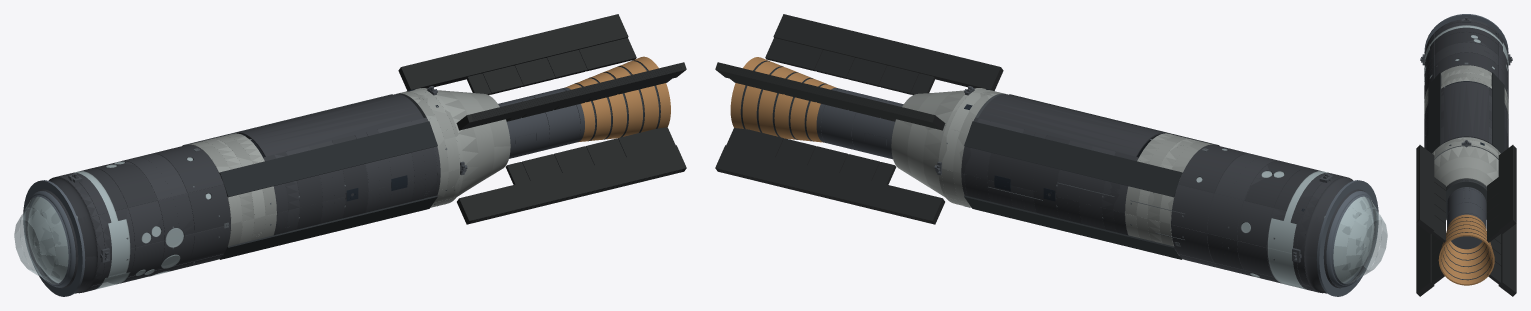
Rendered from wayfarer_exterior_detail_88ce19fc_stowed_stowed.glb.
The picture shows the model from 3 angles, left to right: view 1: azimuth 30°, elevation 25°; view 2: azimuth 150°, elevation 25°; view 3: azimuth 270°, elevation 25°; orthographic projection. The views are drawn at different scales.
Visible parts, largest first — view 1: dry:armor, dry:skin_midship, dry:hotfin_220:folded_envelope, dry:hotfin_40:folded_envelope, dry:strake_140:stowed_stack, dry:nozzle, dry:skin_service, dry:door_port, dry:hotfin_root_40:root, dry:thrust_cone, dry:hotfin_root_220:root, dry:hotfin_140:folded_envelope (+12 smaller); view 2: dry:armor, dry:skin_midship, dry:hotfin_320:folded_envelope, dry:hotfin_140:folded_envelope, dry:strake_40:stowed_stack, dry:nozzle, dry:skin_service, dry:hotfin_root_140:root, dry:door_starboard, dry:thrust_cone, dry:hotfin_root_320:root, dry:reactor (+14 smaller); view 3: dry:armor, dry:nozzle, dry:thrust_cone, dry:hotfin_40:folded_envelope, dry:hotfin_140:folded_envelope, dry:reactor, dry:door_port, dry:door_starboard, dry:hotfin_220:folded_envelope, dry:hotfin_320:folded_envelope, dry:skin_service, dry:strake_40:stowed_stack (+12 smaller).
Part boxes in pixels (x1,y1,x2,y2): dry:armor: (25, 144, 230, 292); dry:skin_midship: (263, 117, 440, 235); dry:hotfin_220:folded_envelope: (457, 145, 686, 224); dry:hotfin_40:folded_envelope: (398, 14, 628, 90); dry:strake_140:stowed_stack: (219, 121, 437, 197); dry:nozzle: (565, 56, 670, 142); dry:skin_service: (187, 133, 276, 259); dry:door_port: (250, 98, 423, 156); dry:hotfin_root_40:root: (466, 38, 636, 94); dry:thrust_cone: (437, 90, 510, 196); dry:hotfin_root_220:root: (505, 127, 675, 184); dry:hotfin_140:folded_envelope: (456, 62, 686, 130); dry:armor: (1171, 144, 1376, 292); dry:skin_midship: (961, 117, 1138, 235); dry:hotfin_320:folded_envelope: (715, 145, 944, 224); dry:hotfin_140:folded_envelope: (773, 14, 1003, 90); dry:strake_40:stowed_stack: (964, 121, 1182, 197); dry:nozzle: (730, 57, 836, 142); dry:skin_service: (1125, 133, 1214, 259); dry:hotfin_root_140:root: (765, 38, 935, 94); dry:door_starboard: (978, 98, 1151, 156); dry:thrust_cone: (891, 90, 964, 197); dry:hotfin_root_320:root: (726, 128, 896, 184); dry:reactor: (816, 88, 903, 159); dry:armor: (1424, 19, 1508, 102); dry:nozzle: (1438, 214, 1494, 285); dry:thrust_cone: (1434, 146, 1498, 220); dry:hotfin_40:folded_envelope: (1498, 145, 1516, 234); dry:hotfin_140:folded_envelope: (1416, 145, 1434, 234); dry:reactor: (1447, 187, 1486, 249); dry:door_port: (1444, 82, 1466, 142); dry:door_starboard: (1466, 82, 1488, 142); dry:hotfin_220:folded_envelope: (1416, 224, 1434, 296); dry:hotfin_320:folded_envelope: (1498, 224, 1516, 296); dry:skin_service: (1424, 65, 1508, 118); dry:strake_40:stowed_stack: (1491, 72, 1504, 153).
Bounding box in the file's own units: 54.5 × 9.92 × 10.73.
